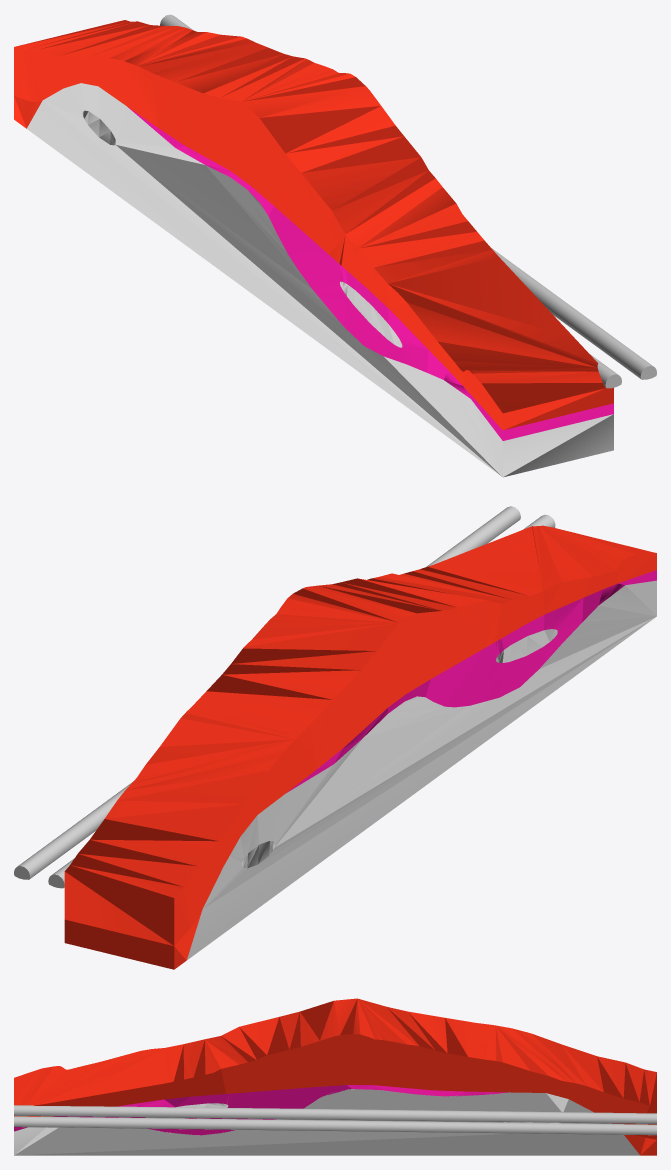
File: ym1_Sec.obj
3 views of the same model, one above another, from view 1: azimuth 30°, elevation 25°; view 2: azimuth 150°, elevation 25°; view 3: azimuth 270°, elevation 25° (orthographic). The views are drawn at different scales.
Parts seen in each view (by area): view 1: 2, 0, 1, tunnel_right, hole; view 2: 2, 0, 1, tunnel_right, hole; view 3: 2, 0, tunnel_right, tunnel_left, 1, hole.
Boxes of the visible parts, x1,y1,x2,y2 form: 2: (14, 20, 613, 430); 0: (27, 83, 613, 477); 1: (128, 107, 613, 440); tunnel_right: (160, 14, 656, 379); hole: (82, 110, 402, 347); 2: (64, 525, 656, 969); 0: (187, 580, 656, 959); 1: (287, 570, 656, 792); tunnel_right: (14, 506, 520, 879); hole: (242, 629, 557, 868); 2: (14, 998, 656, 1155); 0: (14, 1089, 639, 1155); tunnel_right: (14, 1116, 656, 1135); tunnel_left: (14, 1105, 656, 1123); 1: (14, 1085, 508, 1135); hole: (146, 1103, 560, 1123).
Size of the model in its own units: 117 by 127 by 610.
